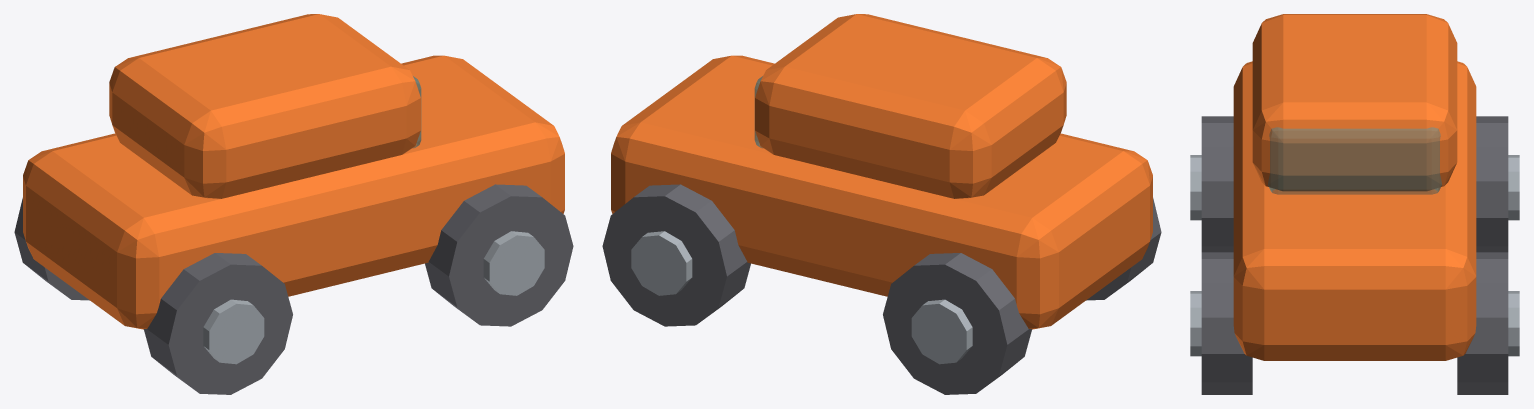
File: mini_car.dae
3 renders of one model, left to right at view 1: azimuth 30°, elevation 25°; view 2: azimuth 150°, elevation 25°; view 3: azimuth 270°, elevation 25°, orthographic.
Visible parts, largest first — view 1: ericrolph_cannon_car_wash_lowvram_minicar_Body, ericrolph_cannon_car_wash_lowvram_minicar_Cabin, ericrolph_cannon_car_wash_lowvram_minicar_Wheel_-0.063_-1.0, ericrolph_cannon_car_wash_lowvram_minicar_Wheel_0.063_-1.0, ericrolph_cannon_car_wash_lowvram_minicar_Hub_0.063_-1.0, ericrolph_cannon_car_wash_lowvram_minicar_Hub_-0.063_-1.0, ericrolph_cannon_car_wash_lowvram_minicar_Wheel_-0.063_1.0; view 2: ericrolph_cannon_car_wash_lowvram_minicar_Body, ericrolph_cannon_car_wash_lowvram_minicar_Cabin, ericrolph_cannon_car_wash_lowvram_minicar_Wheel_-0.063_1.0, ericrolph_cannon_car_wash_lowvram_minicar_Wheel_0.063_1.0, ericrolph_cannon_car_wash_lowvram_minicar_Hub_0.063_1.0, ericrolph_cannon_car_wash_lowvram_minicar_Hub_-0.063_1.0, ericrolph_cannon_car_wash_lowvram_minicar_Wheel_-0.063_-1.0; view 3: ericrolph_cannon_car_wash_lowvram_minicar_Body, ericrolph_cannon_car_wash_lowvram_minicar_Cabin, ericrolph_cannon_car_wash_lowvram_minicar_Screen, ericrolph_cannon_car_wash_lowvram_minicar_Wheel_0.063_-1.0, ericrolph_cannon_car_wash_lowvram_minicar_Wheel_0.063_1.0, ericrolph_cannon_car_wash_lowvram_minicar_Wheel_-0.063_-1.0, ericrolph_cannon_car_wash_lowvram_minicar_Wheel_-0.063_1.0, ericrolph_cannon_car_wash_lowvram_minicar_Hub_-0.063_-1.0, ericrolph_cannon_car_wash_lowvram_minicar_Hub_-0.063_1.0, ericrolph_cannon_car_wash_lowvram_minicar_Hub_0.063_-1.0, ericrolph_cannon_car_wash_lowvram_minicar_Hub_0.063_1.0.
Part boxes in pixels (x1,y1,x2,y2): ericrolph_cannon_car_wash_lowvram_minicar_Body: (23,55,564,329); ericrolph_cannon_car_wash_lowvram_minicar_Cabin: (109,14,420,198); ericrolph_cannon_car_wash_lowvram_minicar_Wheel_-0.063_-1.0: (143,253,292,394); ericrolph_cannon_car_wash_lowvram_minicar_Wheel_0.063_-1.0: (425,184,573,326); ericrolph_cannon_car_wash_lowvram_minicar_Hub_0.063_-1.0: (483,231,544,295); ericrolph_cannon_car_wash_lowvram_minicar_Hub_-0.063_-1.0: (203,299,264,364); ericrolph_cannon_car_wash_lowvram_minicar_Wheel_-0.063_1.0: (14,198,89,300); ericrolph_cannon_car_wash_lowvram_minicar_Body: (611,55,1152,329); ericrolph_cannon_car_wash_lowvram_minicar_Cabin: (755,14,1066,198); ericrolph_cannon_car_wash_lowvram_minicar_Wheel_-0.063_1.0: (883,253,1032,394); ericrolph_cannon_car_wash_lowvram_minicar_Wheel_0.063_1.0: (602,184,750,326); ericrolph_cannon_car_wash_lowvram_minicar_Hub_0.063_1.0: (631,231,692,295); ericrolph_cannon_car_wash_lowvram_minicar_Hub_-0.063_1.0: (911,299,972,364); ericrolph_cannon_car_wash_lowvram_minicar_Wheel_-0.063_-1.0: (1086,198,1161,300); ericrolph_cannon_car_wash_lowvram_minicar_Body: (1233,61,1476,360); ericrolph_cannon_car_wash_lowvram_minicar_Cabin: (1252,14,1457,191); ericrolph_cannon_car_wash_lowvram_minicar_Screen: (1268,127,1441,194); ericrolph_cannon_car_wash_lowvram_minicar_Wheel_0.063_-1.0: (1201,252,1252,394); ericrolph_cannon_car_wash_lowvram_minicar_Wheel_0.063_1.0: (1457,252,1508,394); ericrolph_cannon_car_wash_lowvram_minicar_Wheel_-0.063_-1.0: (1201,116,1233,252); ericrolph_cannon_car_wash_lowvram_minicar_Wheel_-0.063_1.0: (1476,116,1508,252); ericrolph_cannon_car_wash_lowvram_minicar_Hub_-0.063_-1.0: (1190,155,1201,220); ericrolph_cannon_car_wash_lowvram_minicar_Hub_-0.063_1.0: (1508,155,1519,220); ericrolph_cannon_car_wash_lowvram_minicar_Hub_0.063_-1.0: (1190,291,1201,356); ericrolph_cannon_car_wash_lowvram_minicar_Hub_0.063_1.0: (1508,291,1519,356).
Size of the model in its own units: 0.2 by 0.129 by 0.107.
